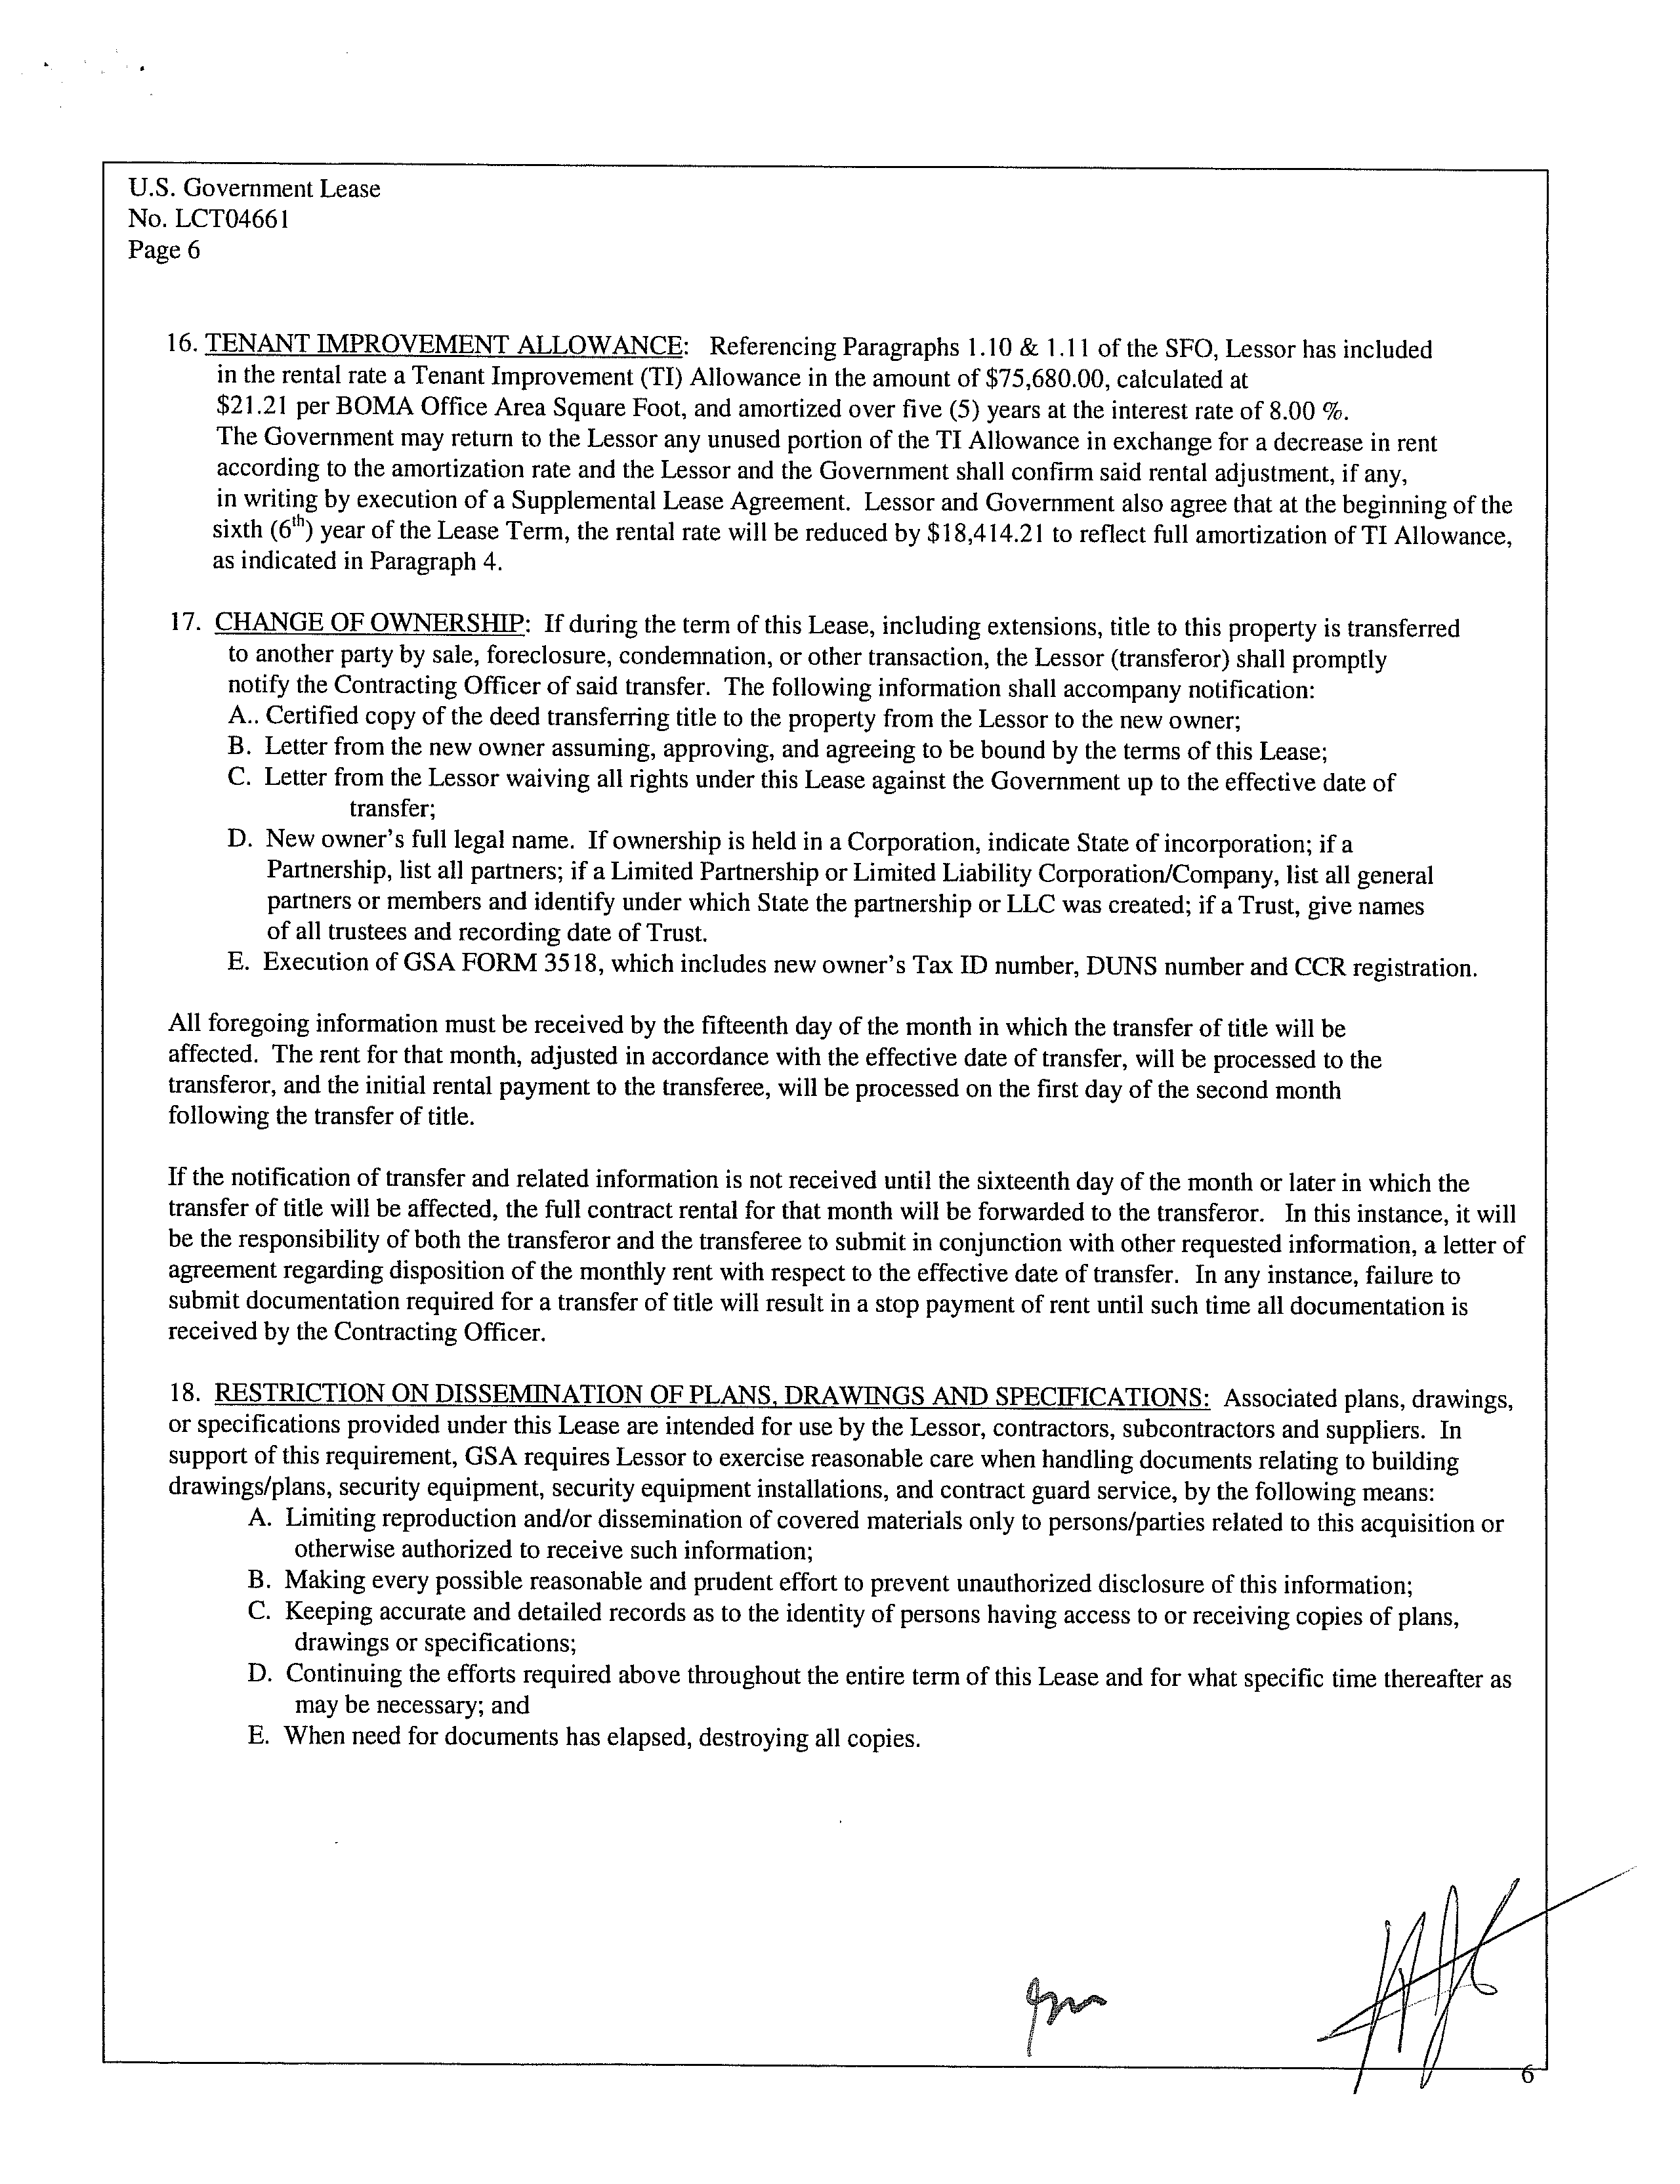handwritten: (1276, 1856, 1655, 2117), (988, 1953, 1131, 2064)
